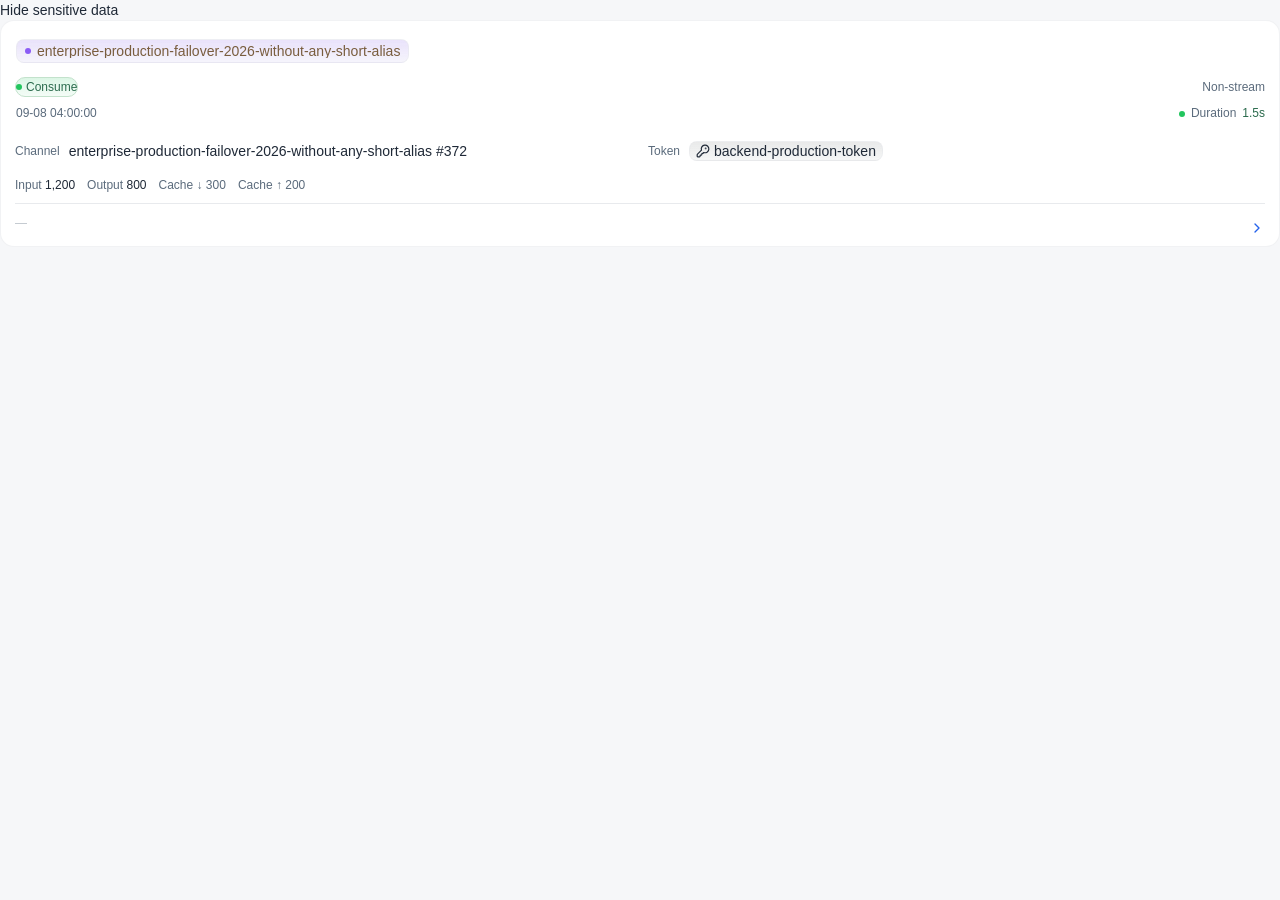
opens long channel text on tap and copies the complete value
The image size is (1280, 900).
Step 1. Click the button with aria-label "Channel: enterprise-production-failover-2026-without-any-sho" → x=350, y=151, box [68, 135, 632, 167]
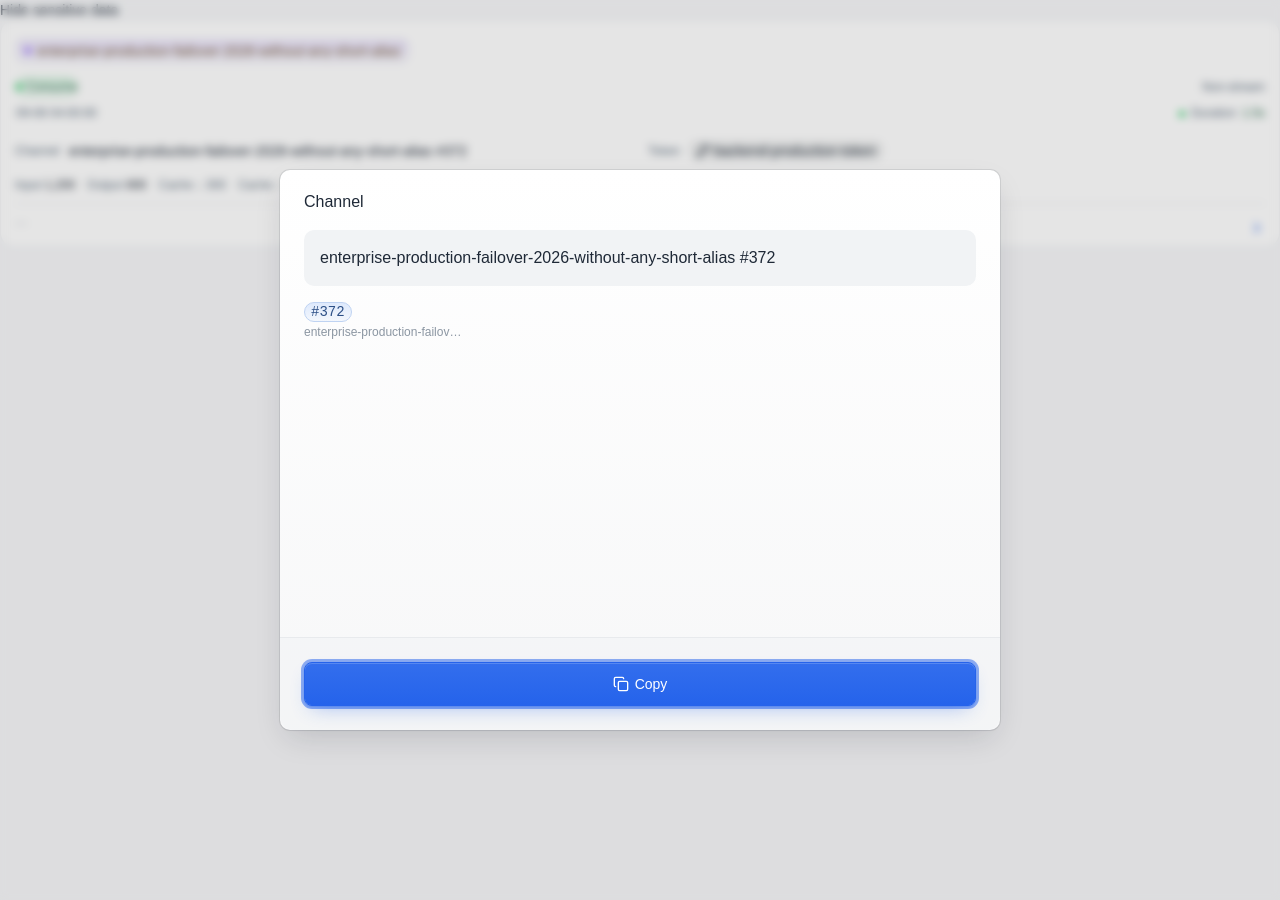
Step 2. Click the button with aria-label "Copy to clipboard" → x=640, y=684, box [304, 662, 976, 706]
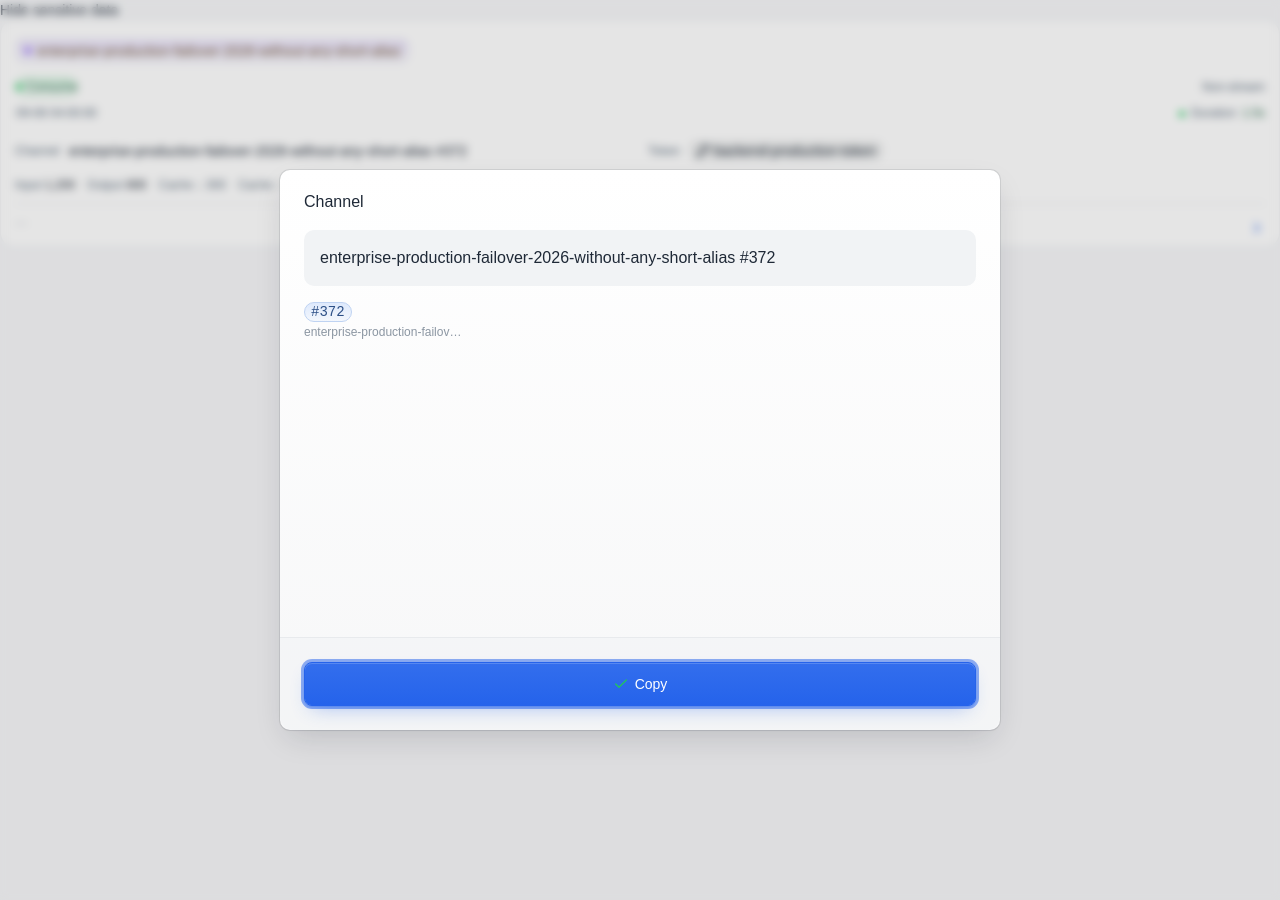
Step 3. Press Escape
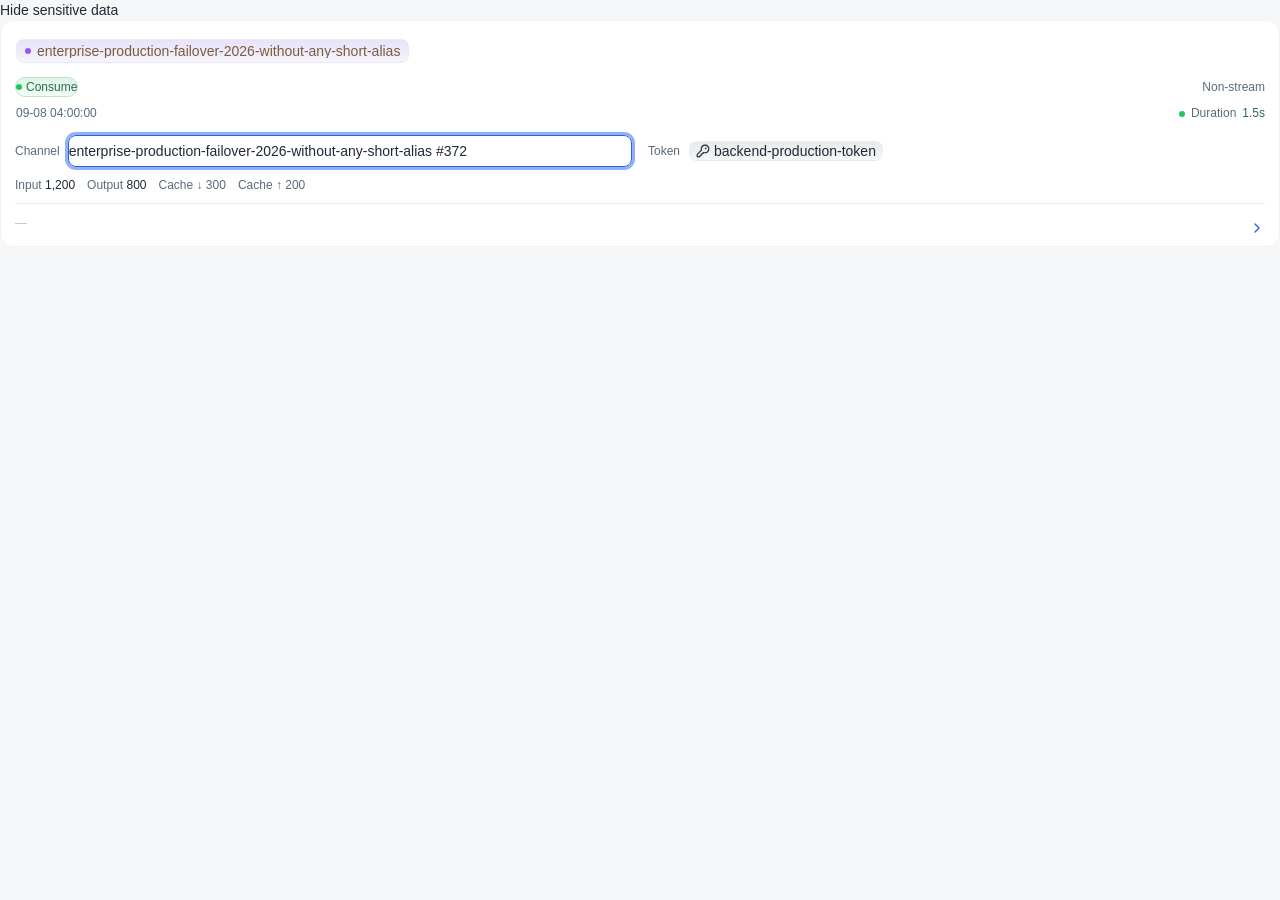
Expected: the dialog is gone
